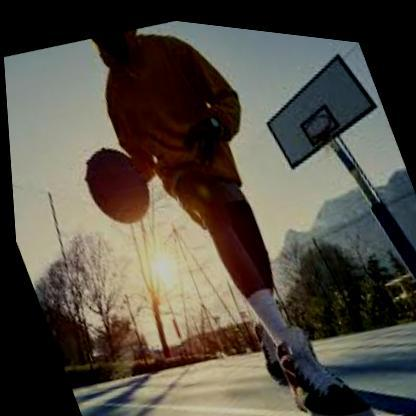basketball: (72, 134, 157, 230)
rim: (299, 101, 336, 135)
